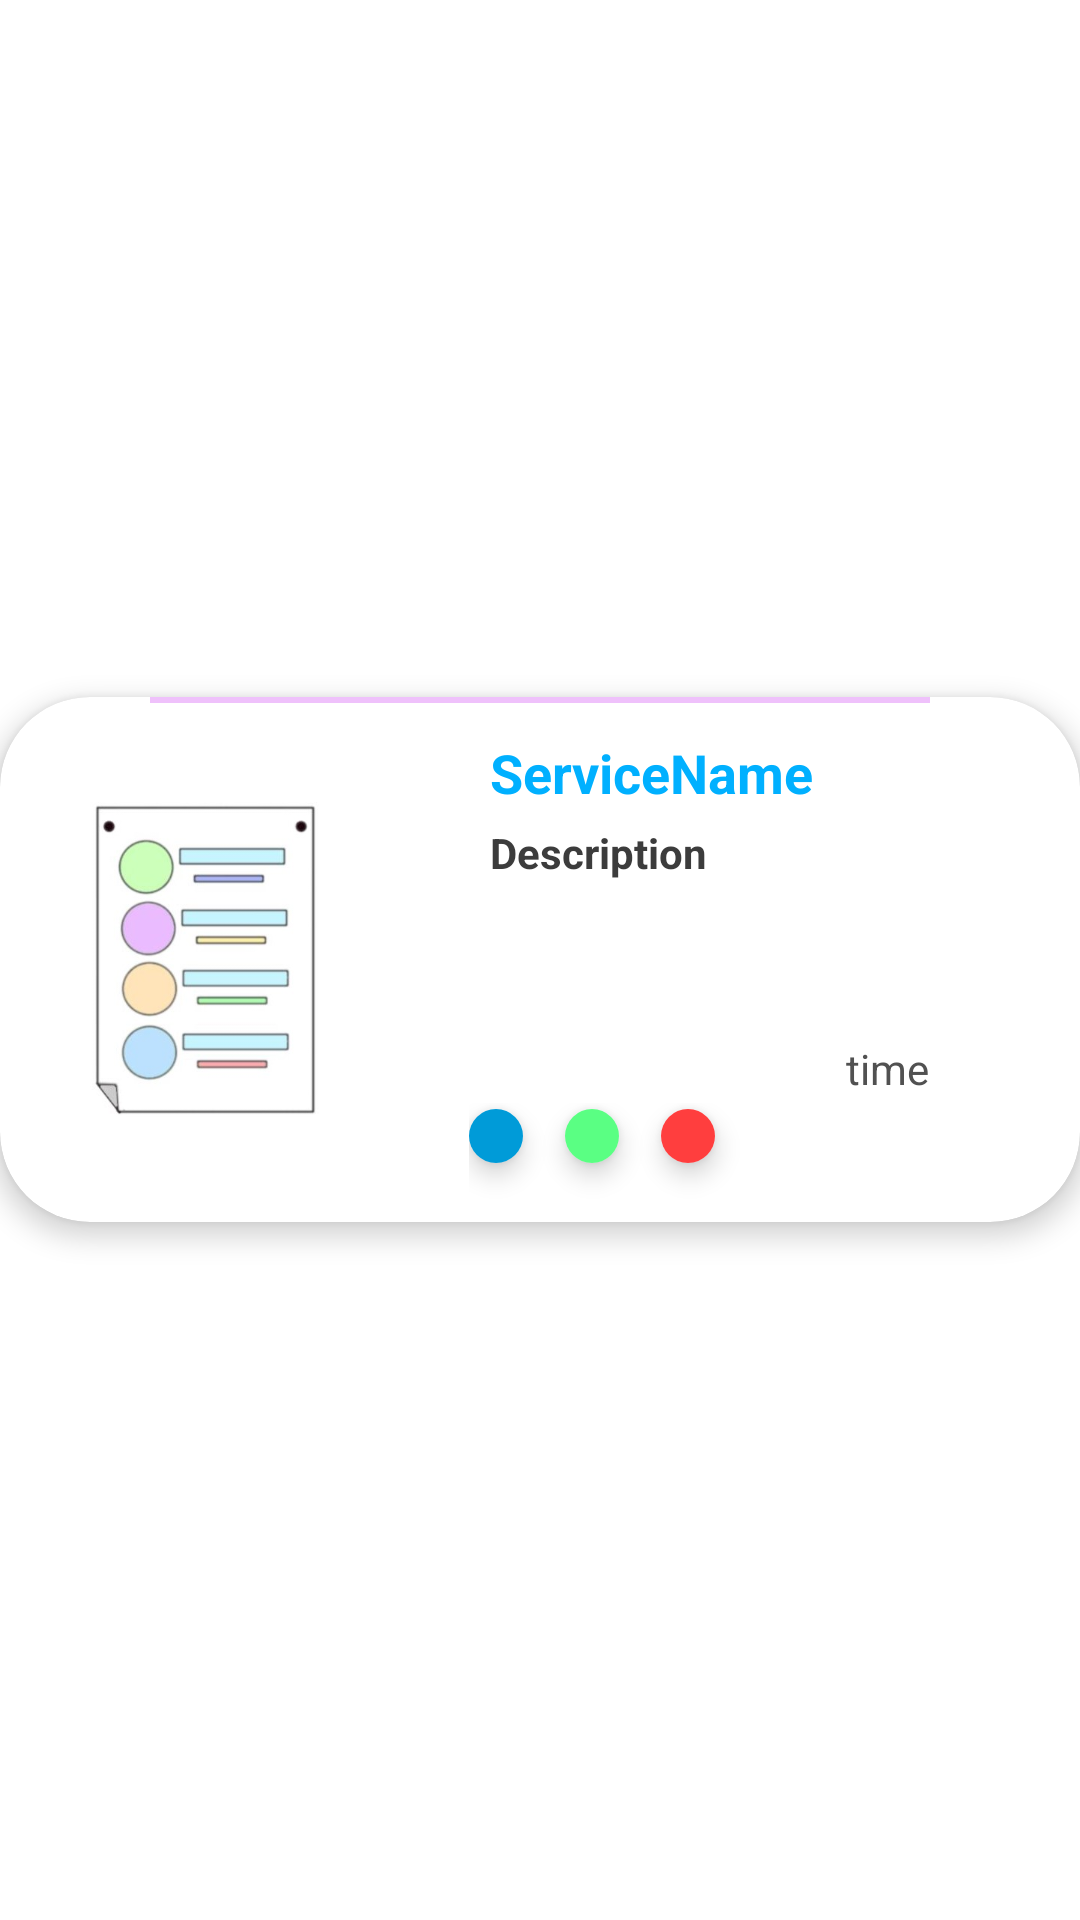

Icon click points for this 1080 × 1920 phone screenshot, format [x,y]:
todo: [205,960]
